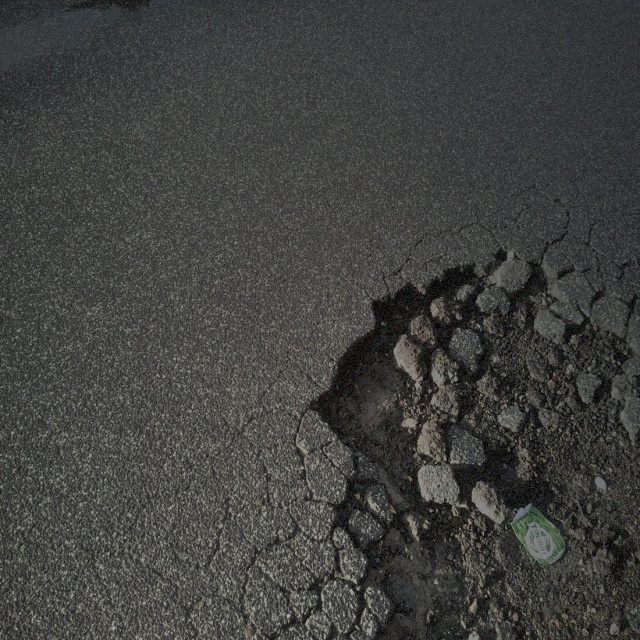pothole: (316, 258, 626, 608)
